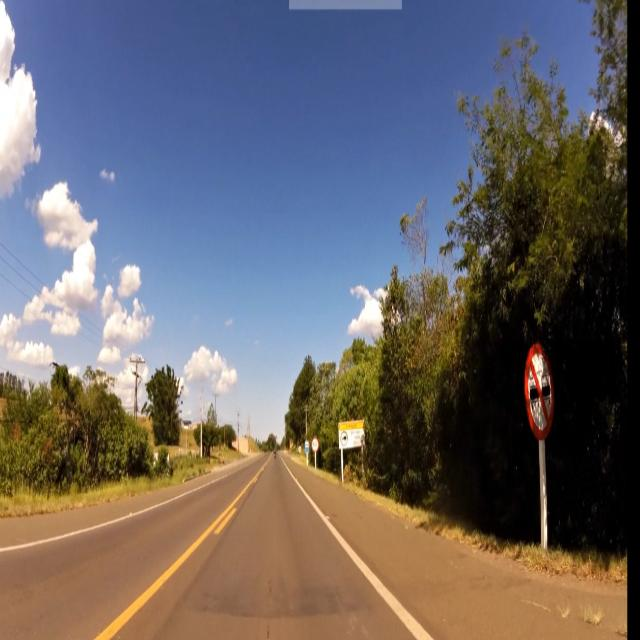R-7: (522, 344, 556, 444)
